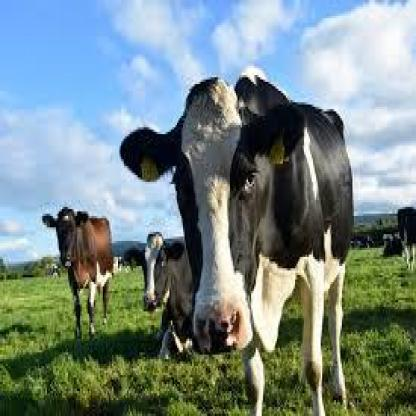cow: (117, 63, 352, 416), (127, 233, 204, 363), (41, 205, 115, 330)
